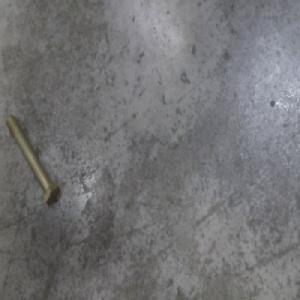Bolt: (6, 106, 60, 206)
